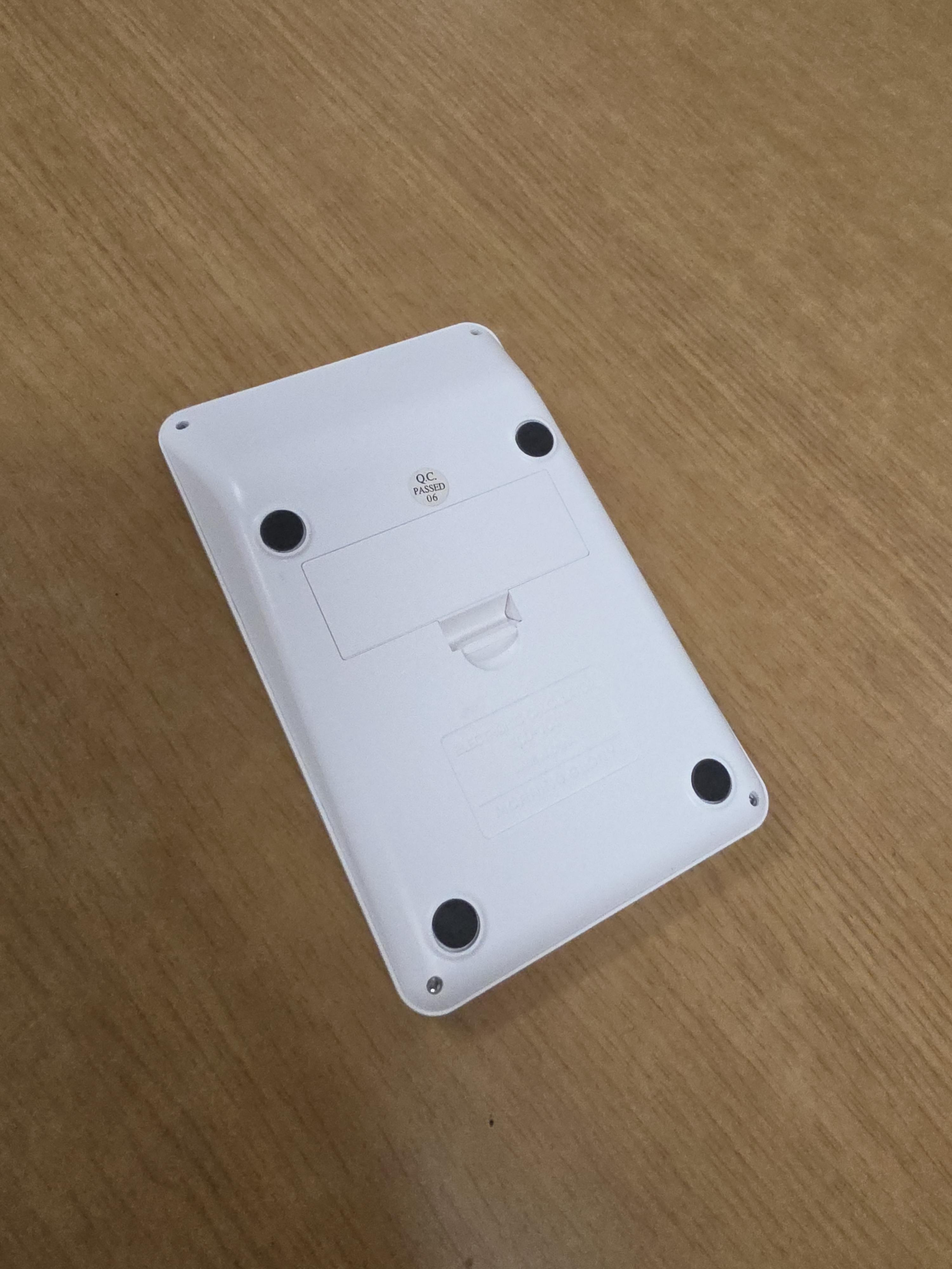calculator: (157, 322, 770, 1017)
